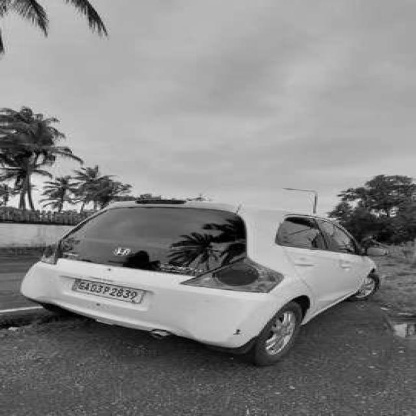car: (23, 185, 394, 367), (66, 275, 158, 308)
